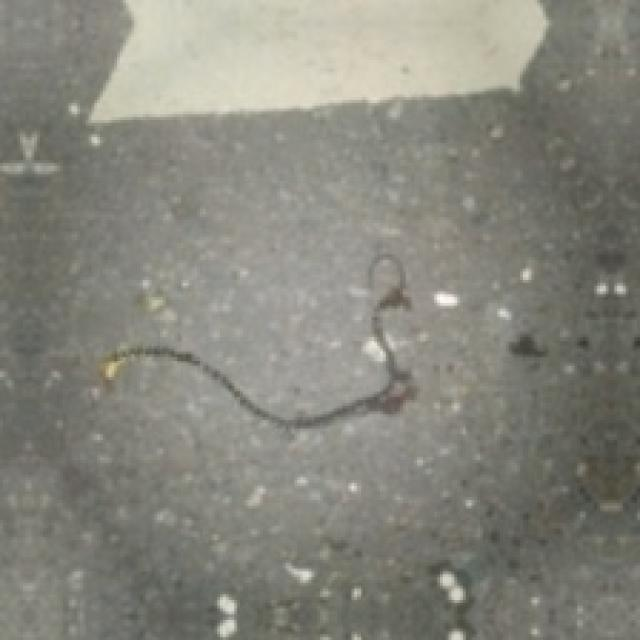mangrove cat snake: (100, 254, 411, 426)
